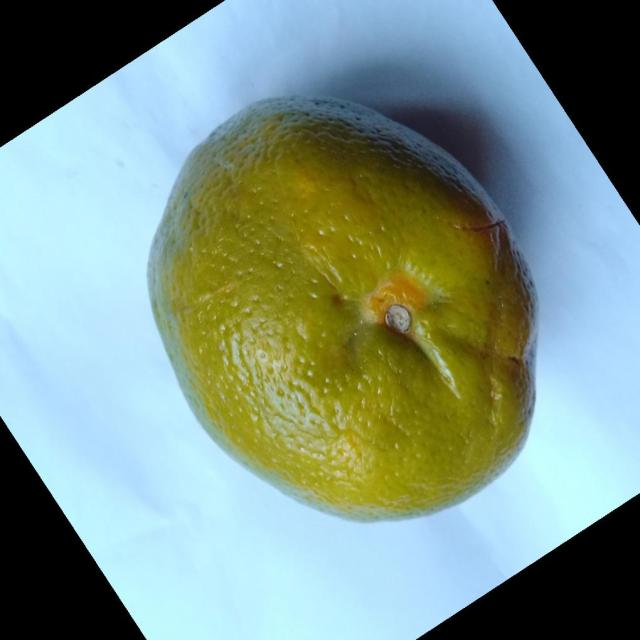fresh orange: (145, 93, 539, 523)
